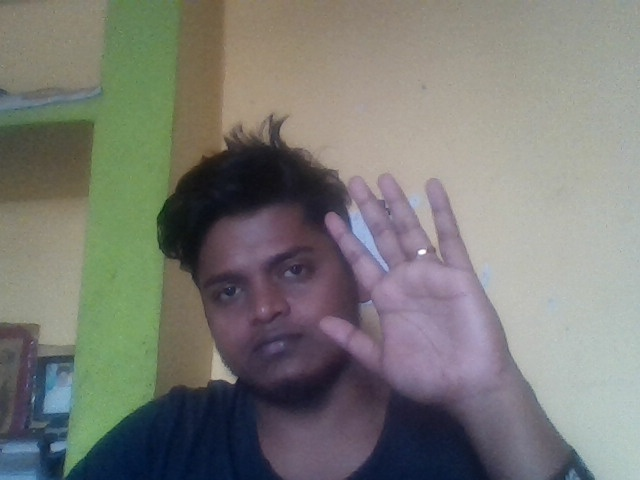Hello: (315, 169, 529, 400)
